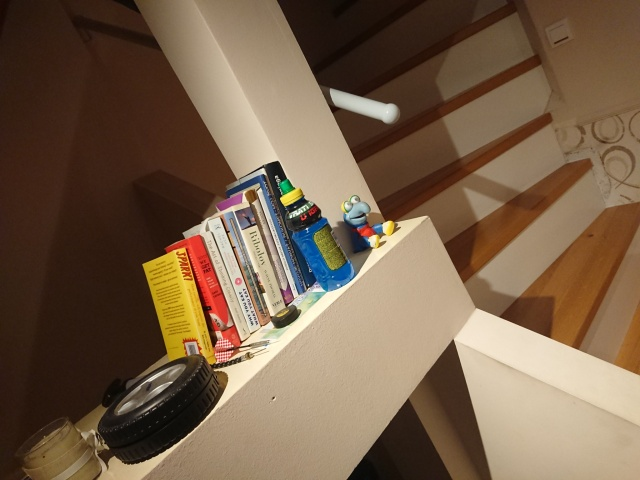Vindi Iso Sport Forest Strawberries 500mL: (278, 177, 356, 292)
